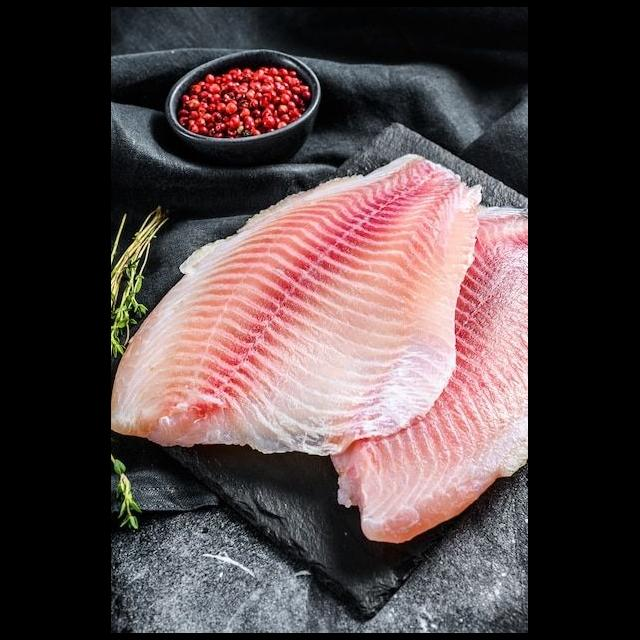fish: (112, 141, 490, 461)
